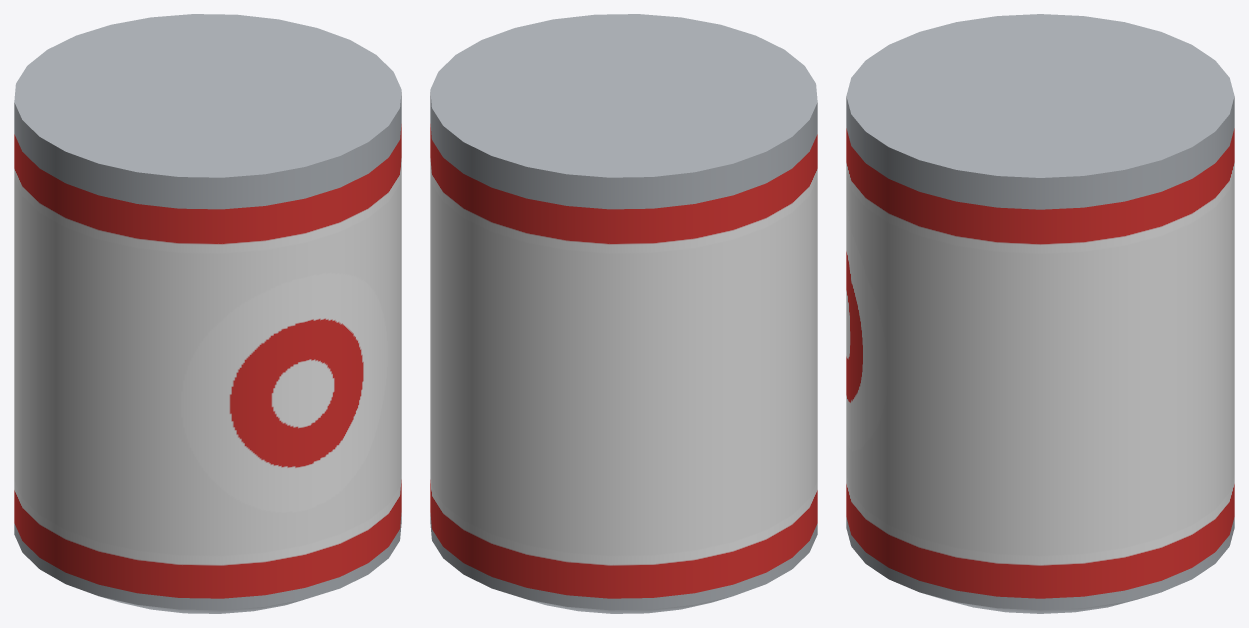
Rendered from Baking_Powder.fbx.
3 views of the same model, side by side, from view 1: azimuth 30°, elevation 25°; view 2: azimuth 150°, elevation 25°; view 3: azimuth 270°, elevation 25° (orthographic).
Visible parts, largest first — view 1: Baking_Powder; view 2: Baking_Powder; view 3: Baking_Powder.
Part boxes in pixels (x1,y1,x2,y2): Baking_Powder: (14, 14, 401, 613); Baking_Powder: (430, 14, 817, 613); Baking_Powder: (846, 14, 1234, 613).
Bounding box in the file's own units: 0.07 × 0.09 × 0.07.
Materials: 2 (1 with a texture image).
